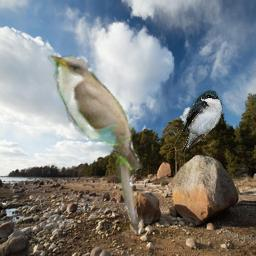Cuckoo: (44, 50, 145, 238)
Swallow: (174, 88, 224, 154)
